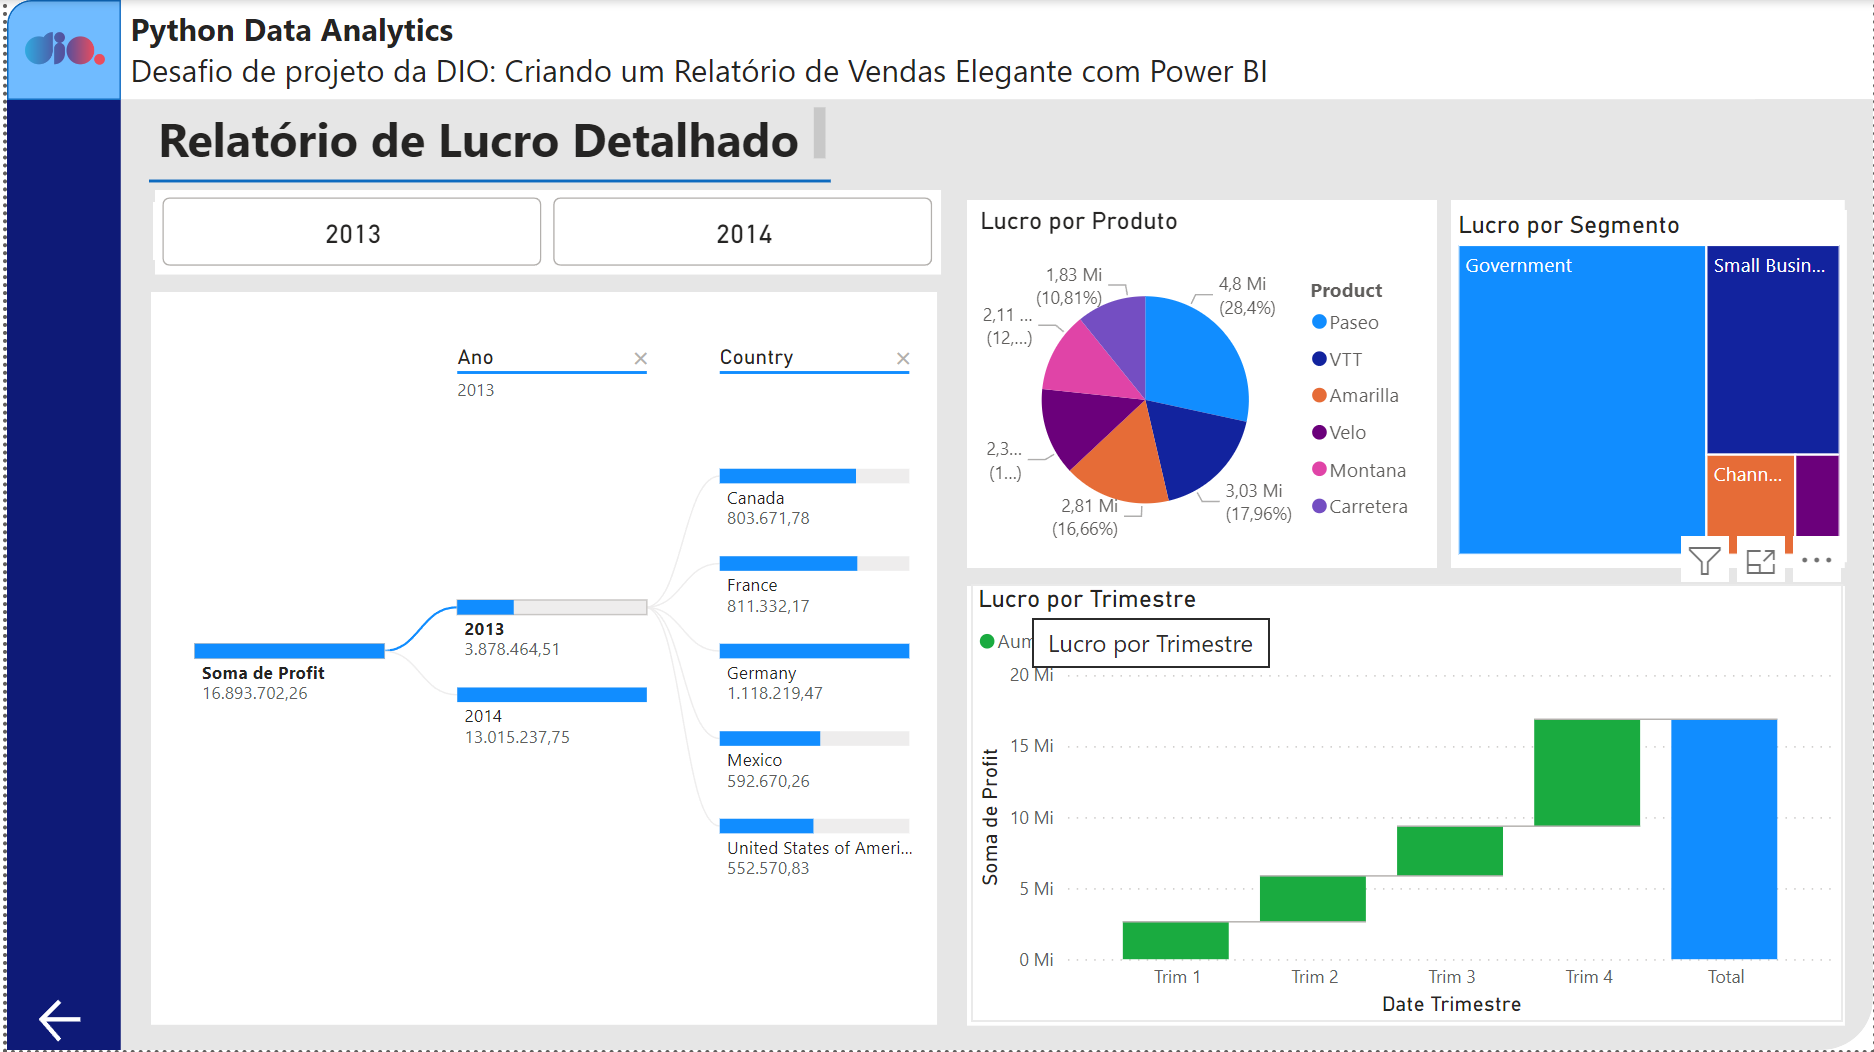

Layout of this report page (visuals, bound fields, positions):
{"tool":"powerbi","page":{"name":"Página 2","canvas":[1280,720],"ordinal":1},"visuals":[{"type":"shape","box":[37.5,0,1242.5,720],"z":0},{"type":"shape","box":[0,0,78.2,720],"z":1000},{"type":"shape","box":[0,0,78.2,68.6],"z":2000},{"type":"image","title":"LogoDIO","box":[0,9.5,79.5,47.3],"z":3000},{"type":"shape","box":[77.6,0,1202.4,68.2],"z":4000},{"type":"textbox","box":[79.5,0,1119.1,68.2],"z":5000},{"type":"textbox","box":[98.8,68.2,467.5,48.7],"z":6000},{"type":"shape","box":[97.4,109.7,467.7,28.8],"z":7000},{"type":"actionButton","box":[17.8,680.2,38.4,39.8],"z":8000},{"type":"shape","box":[100.1,138.5,539,39.8],"z":9000},{"type":"shape","box":[99.2,200.1,539.1,502.7],"z":10000},{"type":"shape","box":[658.3,401.8,602.1,301.7],"z":10001},{"type":"shape","box":[658.3,137.1,322.3,252.3],"z":10003},{"type":"shape","box":[990.2,137.1,270.2,252.3],"z":10004},{"type":"treemap","title":"Lucro por Segmento","fields":{"Values":["Sum(financials.Profit)"],"Group":["financials.Segment"]},"box":[990.2,144,271.5,241.4],"z":10005},{"type":"pieChart","title":"Lucro por Produto","fields":{"Category":["financials.Product"],"Y":["Sum(financials.Profit)"]},"box":[662.9,140.8,313.3,246.8],"z":10006},{"type":"waterfallChart","title":"Lucro por Trimestre","fields":{"Y":["Sum(financials.Profit)"],"Category":["financials.Date.Variation.Hierarquia de datas.Trimestre"]},"box":[661.4,400.3,598.1,300.6],"z":10007},{"type":"decompositionTreeVisual","fields":{"Analyze":["Sum(financials.Profit)"],"ExplainBy":["financials.Date.Variation.Hierarquia de datas.Ano","financials.Country"]},"box":[98.7,219.4,526.6,432],"z":10008},{"type":"advancedSlicerVisual","fields":{"Values":["financials.Date.Variation.Hierarquia de datas.Ano"]},"box":[100.9,130.6,539.1,57.9],"z":10013}]}

Visuals, with their boxes on the page's 1280x720 design canvas (x1, y1, x2, y2). These are canvas units, not pixel positions in the 1874x1052 screenshot, which may show the page scaled, cropped or inside an application window:
shape: 38, 0, 1280, 720
shape: 0, 0, 78, 720
shape: 0, 0, 78, 69
"LogoDIO" image: 0, 10, 80, 57
shape: 78, 0, 1280, 68
textbox: 80, 0, 1199, 68
textbox: 99, 68, 566, 117
shape: 97, 110, 565, 138
actionButton: 18, 680, 56, 720
shape: 100, 138, 639, 178
shape: 99, 200, 638, 703
shape: 658, 402, 1260, 704
shape: 658, 137, 981, 389
shape: 990, 137, 1260, 389
"Lucro por Segmento" treemap: 990, 144, 1262, 385
"Lucro por Produto" pieChart: 663, 141, 976, 388
"Lucro por Trimestre" waterfallChart: 661, 400, 1260, 701
decompositionTreeVisual - Sum(financials.Profit) x financials.Date.Variation.Hierarquia de datas.Ano: 99, 219, 625, 651
advancedSlicerVisual - financials.Date.Variation.Hierarquia de datas.Ano: 101, 131, 640, 188
